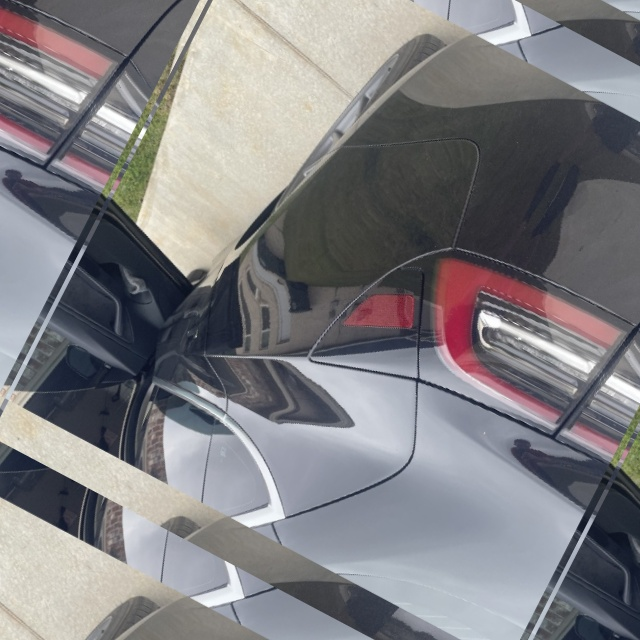reflector: (339, 271, 424, 355)
